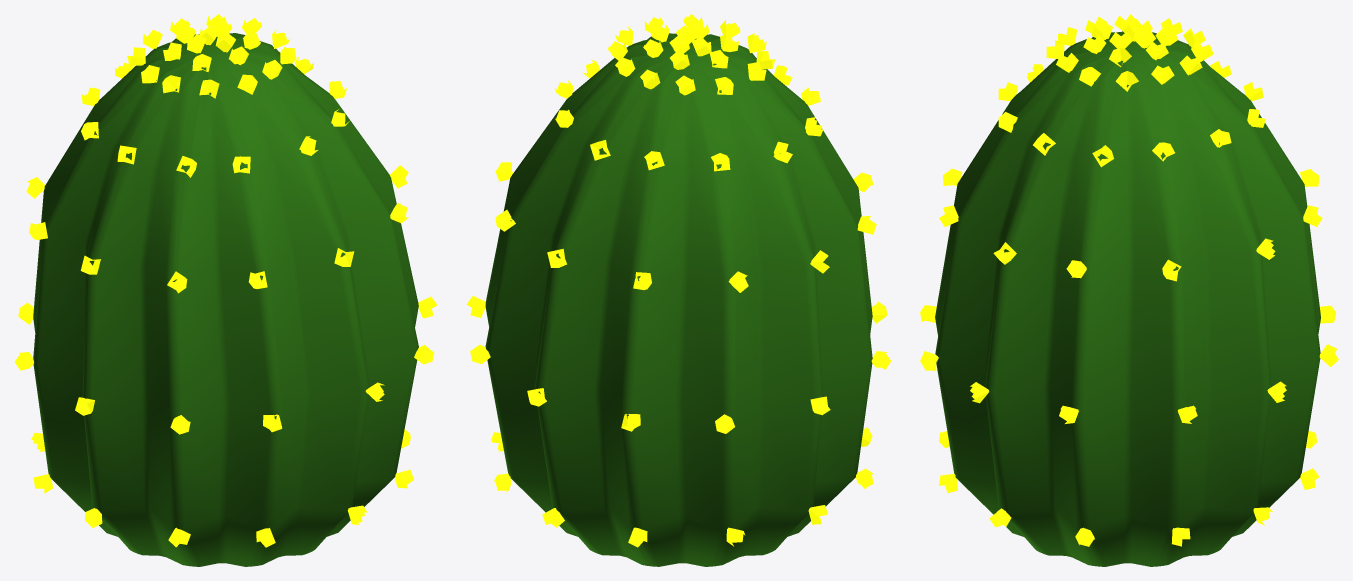
File: kaktus09.fbx
3 views of the same model, side by side, from view 1: azimuth 30°, elevation 25°; view 2: azimuth 150°, elevation 25°; view 3: azimuth 270°, elevation 25° (orthographic).
Visible parts, largest first — view 1: kaktus09; view 2: kaktus09; view 3: kaktus09.
Part boxes in pixels (left/top/right/bottom): kaktus09: left=14, top=14, right=437, bottom=566; kaktus09: left=466, top=14, right=891, bottom=566; kaktus09: left=920, top=14, right=1338, bottom=566.
Bounding box in the file's own units: 0.5405 × 0.5445 × 0.6915.
